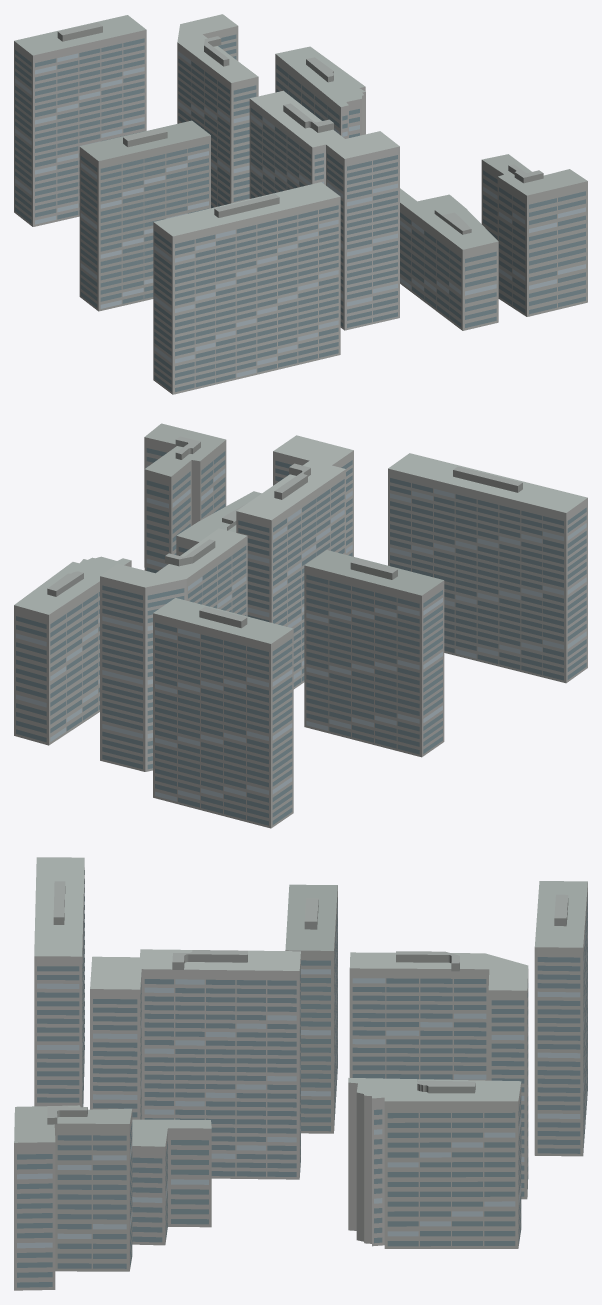
File: apt-a15285804.glb
3 renders of one model, top to bottom at view 1: azimuth 30°, elevation 25°; view 2: azimuth 150°, elevation 25°; view 3: azimuth 270°, elevation 25°, orthographic. The views are drawn at different scales.
Parts seen in each view (by area): view 1: apt-a15285804; view 2: apt-a15285804; view 3: apt-a15285804.
Boxes of the visible parts, x1,y1,x2,y2 form: apt-a15285804: (14,14,587,394); apt-a15285804: (14,423,587,828); apt-a15285804: (14,857,587,1290).
Size of the model in its own units: 160 by 67 by 161.
